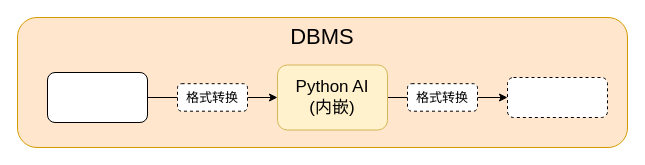
This 645x165 diagram has some shape labels left out. The shapes that lost their labels are listed below. From the top down, each one's centre as x and y in pixels, then its label:
At pixel 97 97: "查询数据".
At pixel 557 97: "存储数据".
